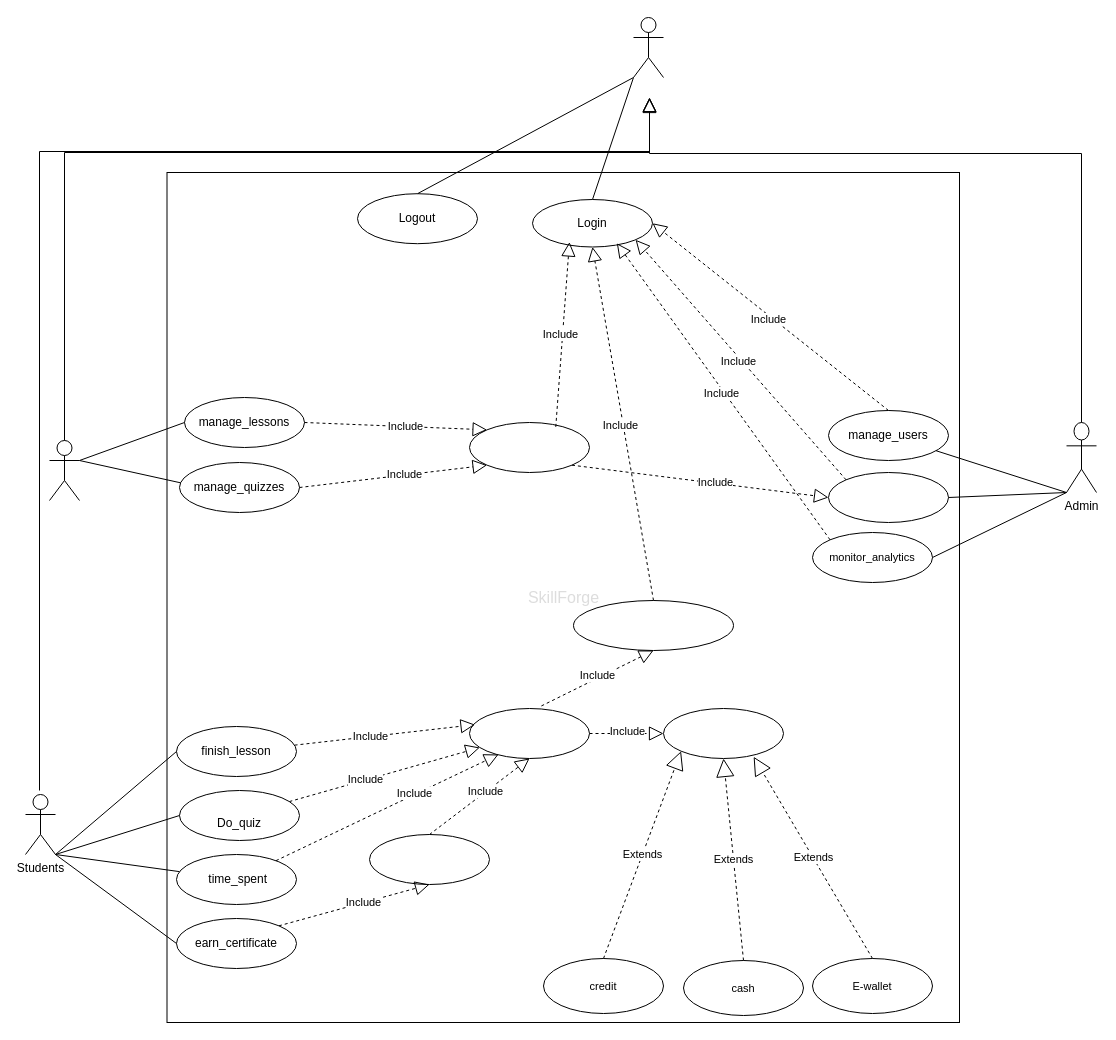
Some shapes in this 1116 by 1040 pixel diagram are drawn without their labels. The centre of each missing label's shape, as x and y in pixels:
addcourse_demand: (888,497)
browse_available_course: (653,625)
Complete_Course: (429,859)
create_course: (529,447)
enroll_course: (529,733)
Instructors: (64,470)
Payment: (723,733)
User: (648,47)
